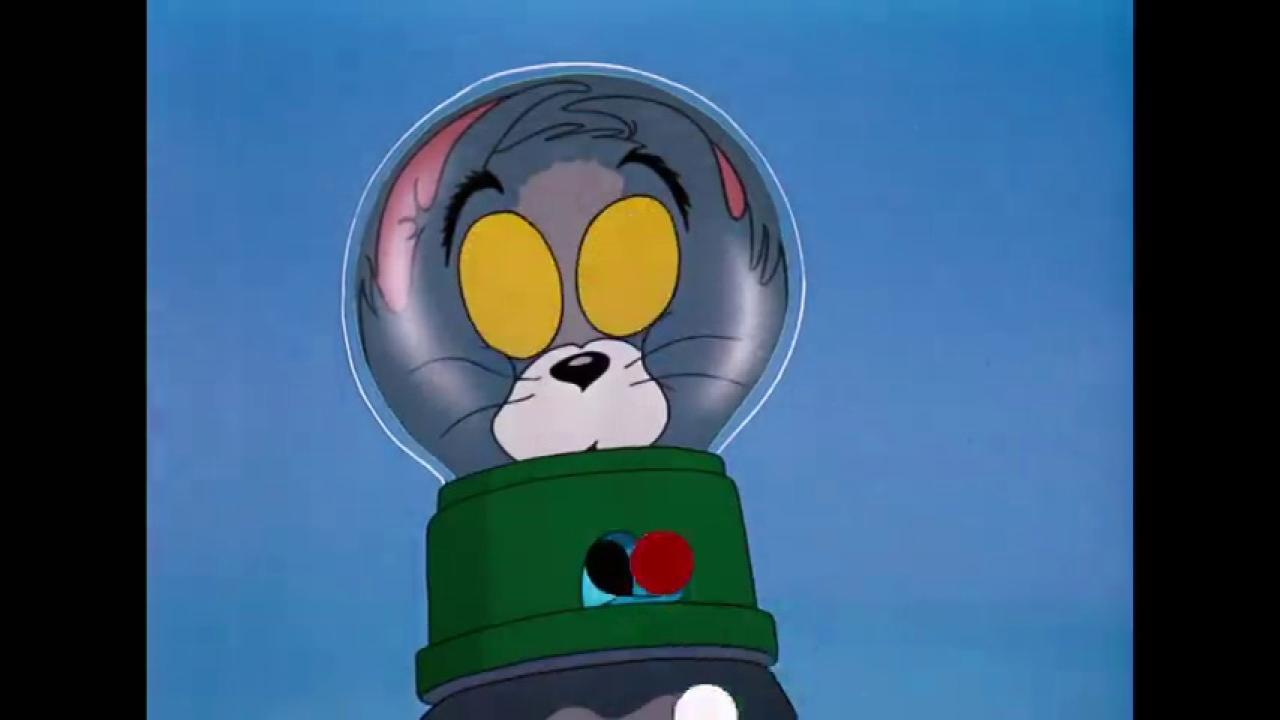Tom: (342, 60, 806, 720)
